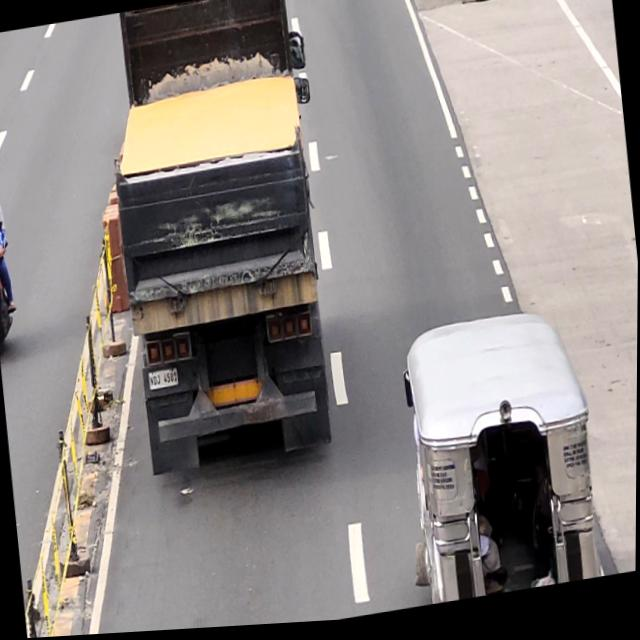Jeep: (392, 307, 606, 612)
License-Plate: (148, 369, 179, 391)
Truck: (95, 0, 347, 483)
